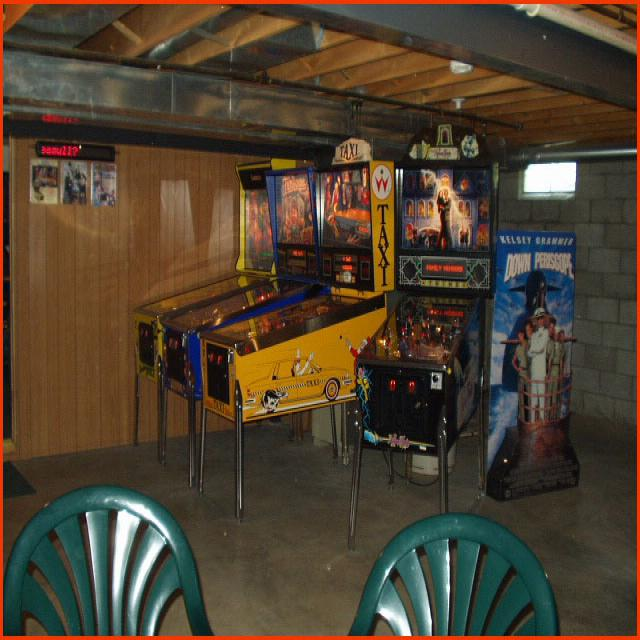ceiling beam: (1, 0, 638, 159)
chair cushion: (3, 483, 213, 633), (348, 512, 558, 633)
door entrance: (1, 136, 15, 452)
floor -X: (1, 401, 638, 636)
lamp crop: (518, 159, 573, 196)
poster crop: (484, 231, 580, 501), (28, 157, 56, 200), (59, 159, 85, 203), (91, 160, 115, 204)
rug -partially obscured-: (0, 461, 33, 496)
sign: (36, 137, 113, 157)
slot machine occluded: (346, 121, 498, 548)
slot machines crop: (135, 157, 399, 517)
wall clock: (1, 136, 339, 461), (332, 136, 637, 444)
